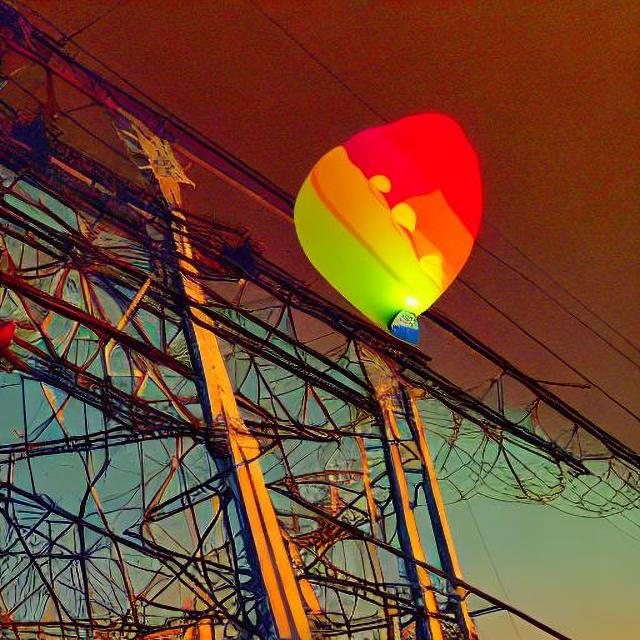balloon: (260, 99, 536, 334)
